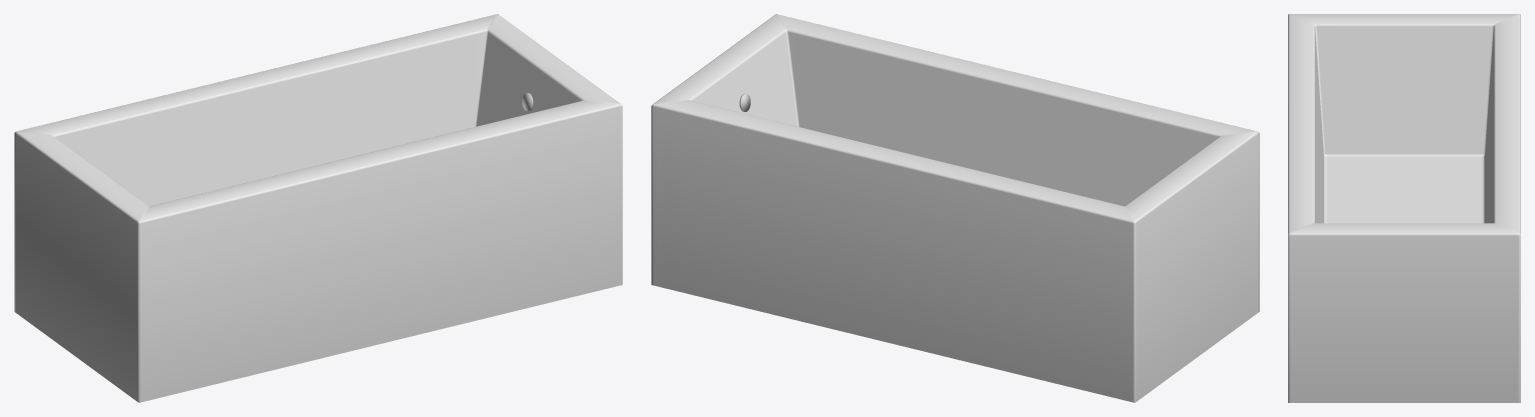
Rendered from BathTub02.glb.
3 views of the same model, side by side, from view 1: azimuth 30°, elevation 25°; view 2: azimuth 150°, elevation 25°; view 3: azimuth 270°, elevation 25° (orthographic). The views are drawn at different scales.
Parts seen in each view (by area): view 1: BathTub02_model; view 2: BathTub02_model; view 3: BathTub02_model.
Part boxes in pixels (x1,y1,x2,y2): BathTub02_model: [14, 14, 622, 402]; BathTub02_model: [651, 14, 1259, 402]; BathTub02_model: [1288, 14, 1520, 402].
Size of the model in its own units: 2.93 by 1.05 by 1.31.
1 material, 1 textured.
